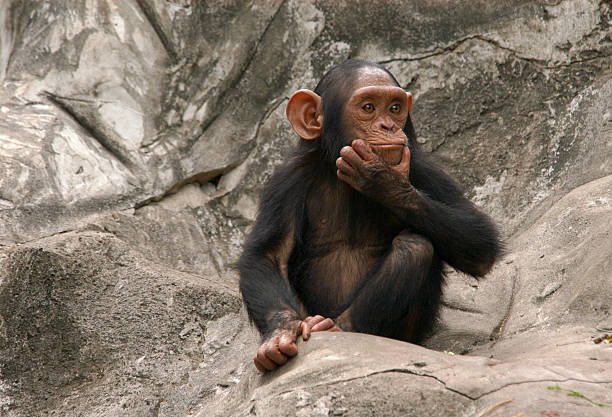chimpanzee: (269, 45, 437, 191)
